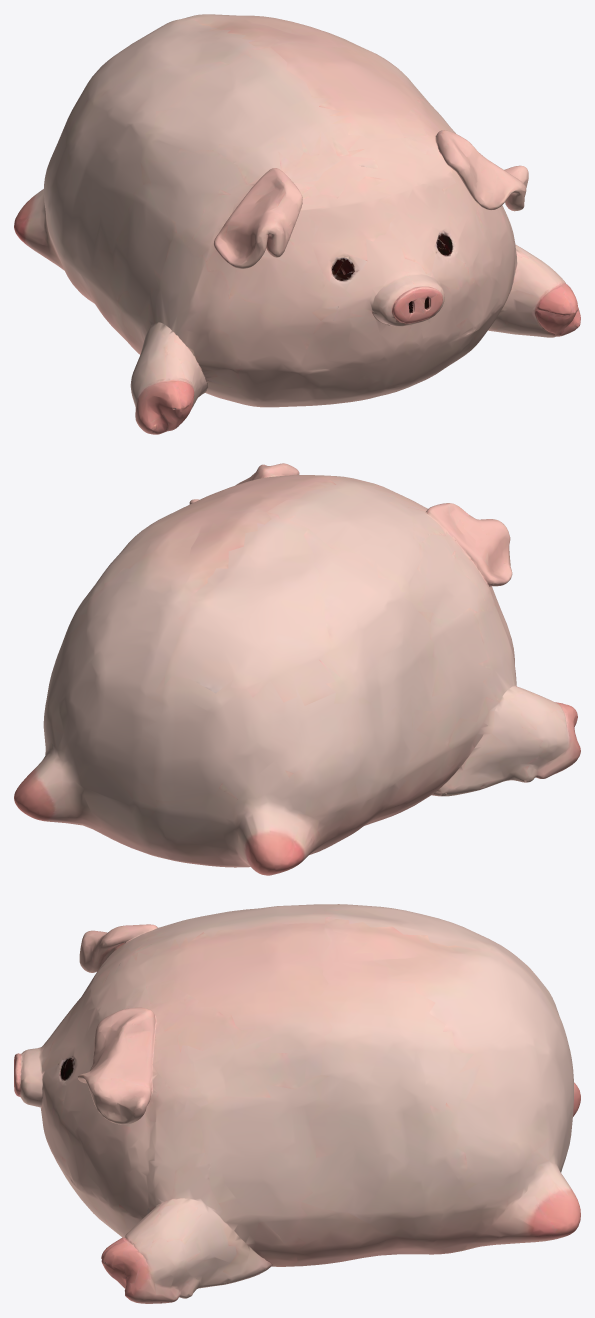
Rendered from plush-pig-lite.glb.
3 renders of one model, top to bottom at view 1: azimuth 30°, elevation 25°; view 2: azimuth 150°, elevation 25°; view 3: azimuth 270°, elevation 25°, orthographic. The views are drawn at different scales.
Visible parts, largest first — view 1: Reference sculpt · folded fabric ears and sewn feet; view 2: Reference sculpt · folded fabric ears and sewn feet; view 3: Reference sculpt · folded fabric ears and sewn feet.
Boxes of the visible parts, <box> form: Reference sculpt · folded fabric ears and sewn feet: <box>14,14,580,434</box>; Reference sculpt · folded fabric ears and sewn feet: <box>14,463,580,875</box>; Reference sculpt · folded fabric ears and sewn feet: <box>14,904,580,1303</box>.
Size of the model in its own units: 1.74 by 1.04 by 1.9.
1 material, 1 textured.
